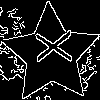X: (26, 29, 72, 65)
